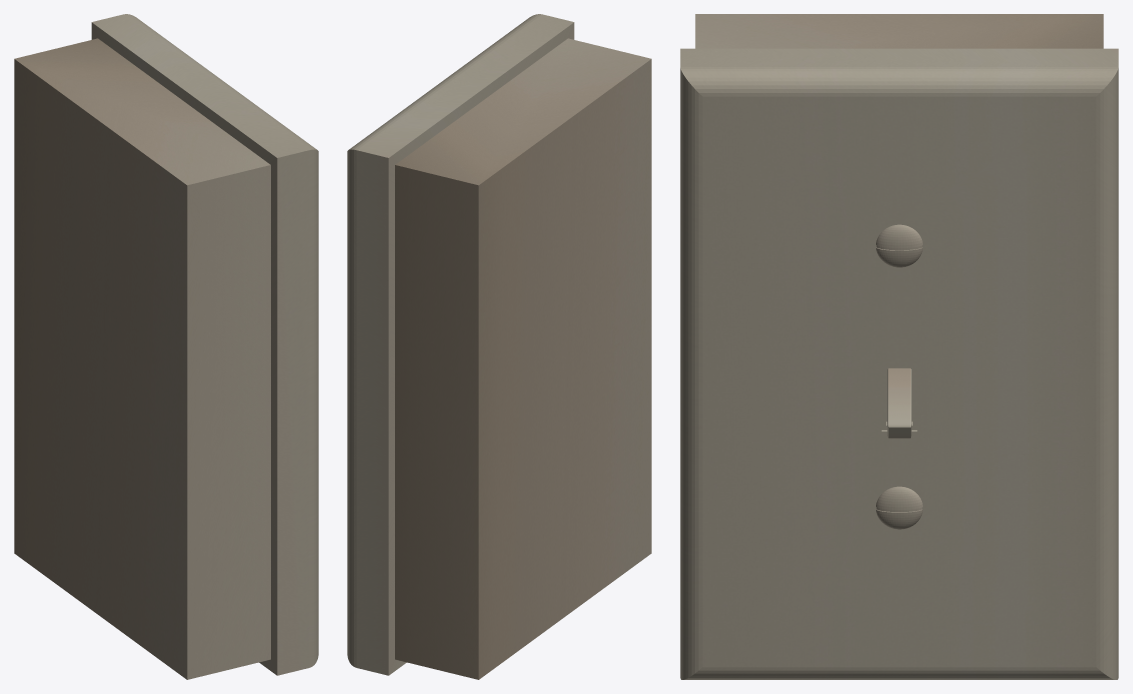
The model's file is LightSwitch.fbx.
The picture shows the model from 3 angles, left to right: view 1: azimuth 30°, elevation 25°; view 2: azimuth 150°, elevation 25°; view 3: azimuth 270°, elevation 25°; orthographic projection. The views are drawn at different scales.
Parts seen in each view (by area): view 1: Cube; view 2: Cube; view 3: Cube, Cube.001.
Part boxes in pixels (x1,y1,x2,y2): Cube: [14, 14, 318, 679]; Cube: [347, 14, 651, 679]; Cube: [680, 14, 1118, 679]; Cube.001: [887, 368, 911, 438].
Bounding box in the file's own units: 131 × 400 × 260.
